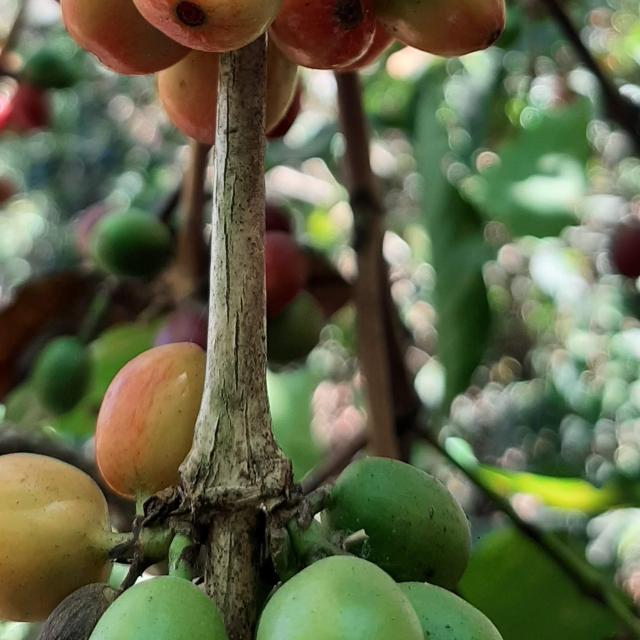green: (329, 458, 472, 591), (256, 556, 425, 640), (88, 576, 228, 640), (399, 583, 503, 640)
red: (36, 584, 119, 640)
yellow: (0, 454, 122, 623), (94, 343, 205, 500), (60, 0, 190, 74), (133, 0, 283, 51), (375, 0, 506, 56), (270, 0, 376, 68), (156, 49, 219, 144)
